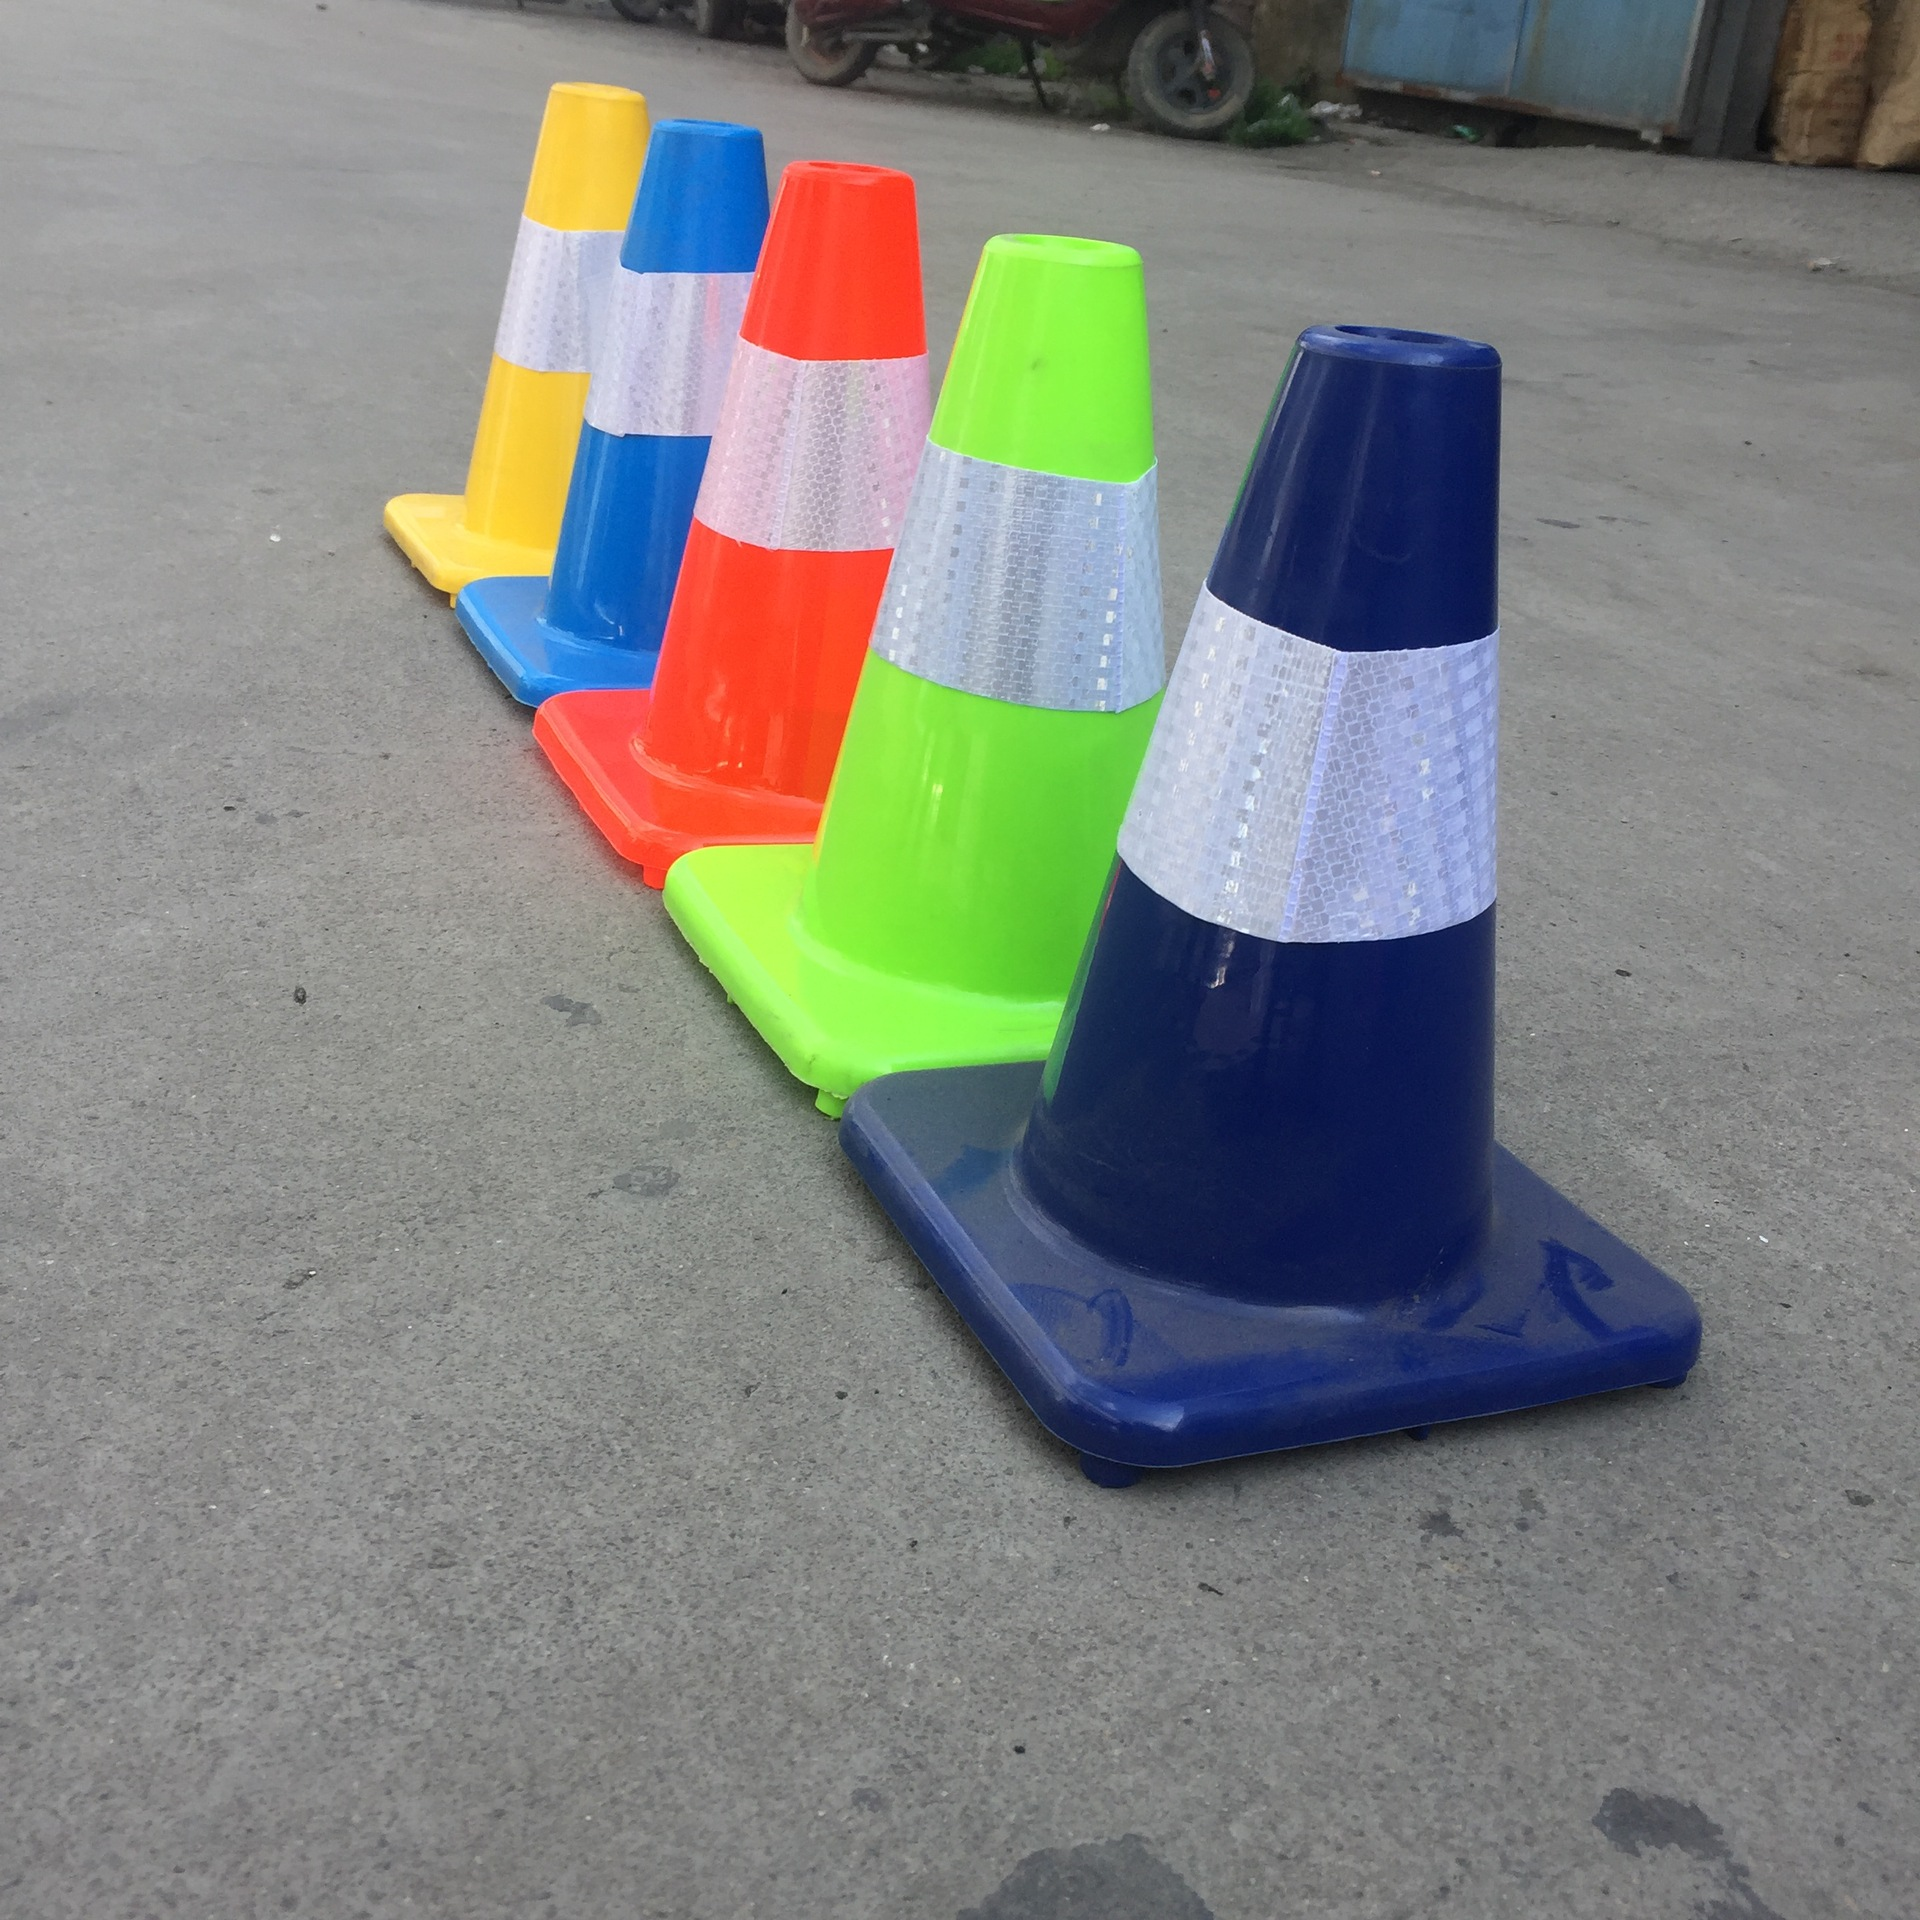traffic_cone: (847, 246, 1734, 1458), (714, 144, 1217, 1189), (552, 53, 1000, 891), (452, 42, 796, 733), (382, 21, 621, 642)
